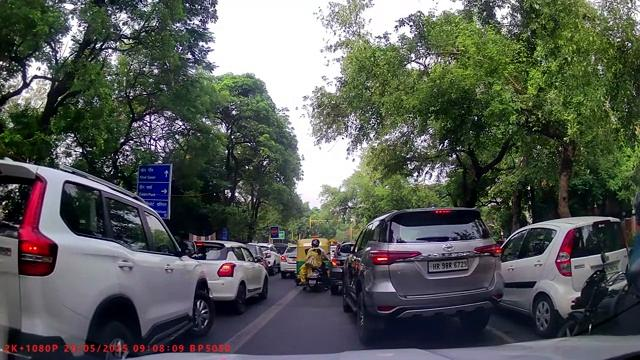passenger_with_helmet: (299, 238, 331, 293)
